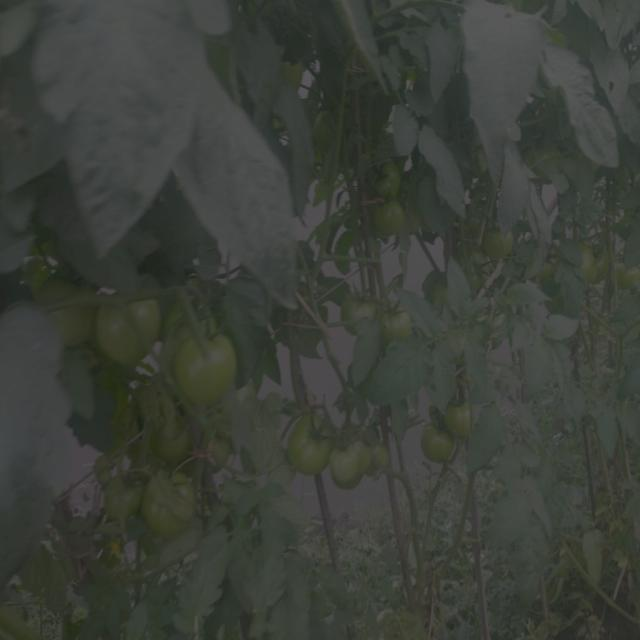tomato: (179, 336, 240, 408), (95, 304, 164, 360), (141, 476, 202, 533), (47, 280, 94, 347), (281, 410, 329, 472), (104, 471, 146, 522), (318, 435, 361, 483), (342, 435, 394, 474), (436, 404, 479, 445), (418, 427, 460, 467), (344, 287, 378, 333), (481, 231, 522, 262), (378, 205, 409, 246), (150, 430, 191, 460), (385, 304, 411, 342), (375, 167, 406, 198), (583, 241, 606, 282)
